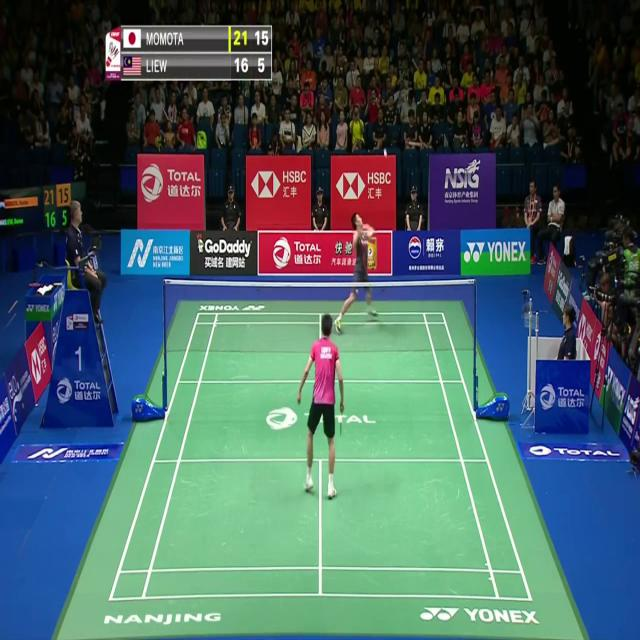Shuttlecock: (382, 147, 388, 159)
